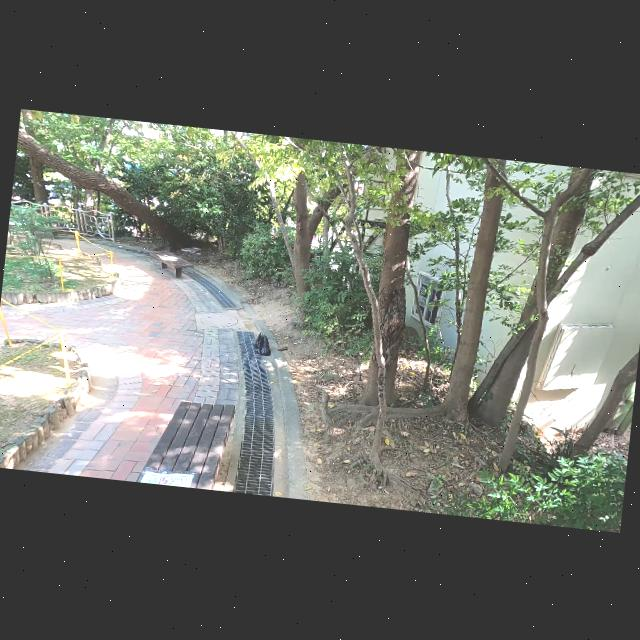trash: (250, 329, 274, 359)
